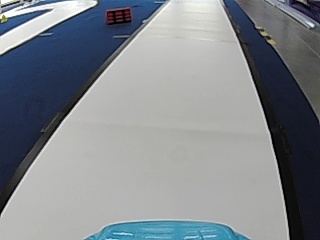bomb: (106, 6, 132, 23)
